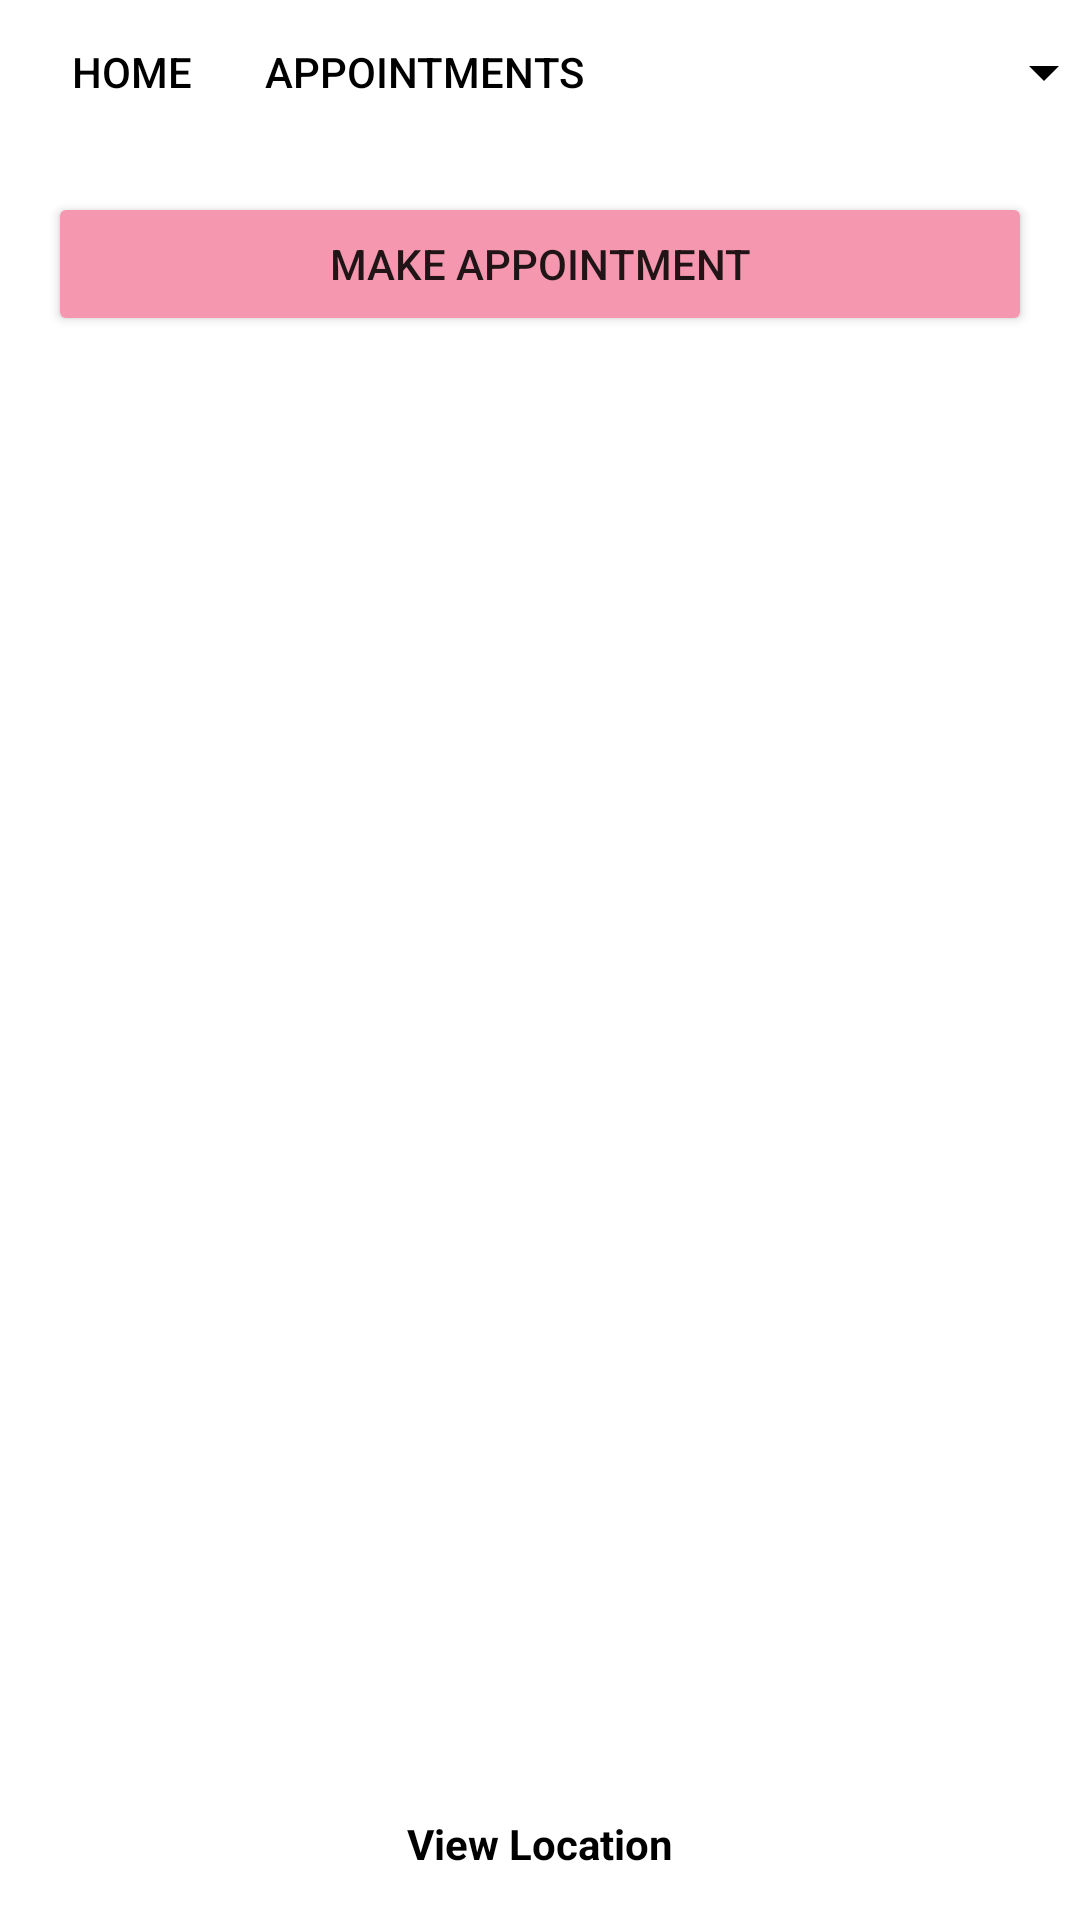

Icons on this 1080px x 1920px Android screen, each with the point to tap as point (x, y):
dropdown: point (1044, 73)
